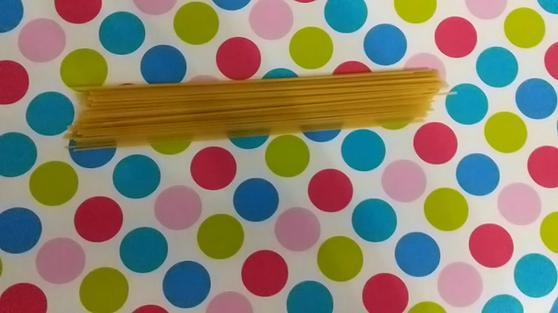spaghetti: (51, 49, 473, 162)
